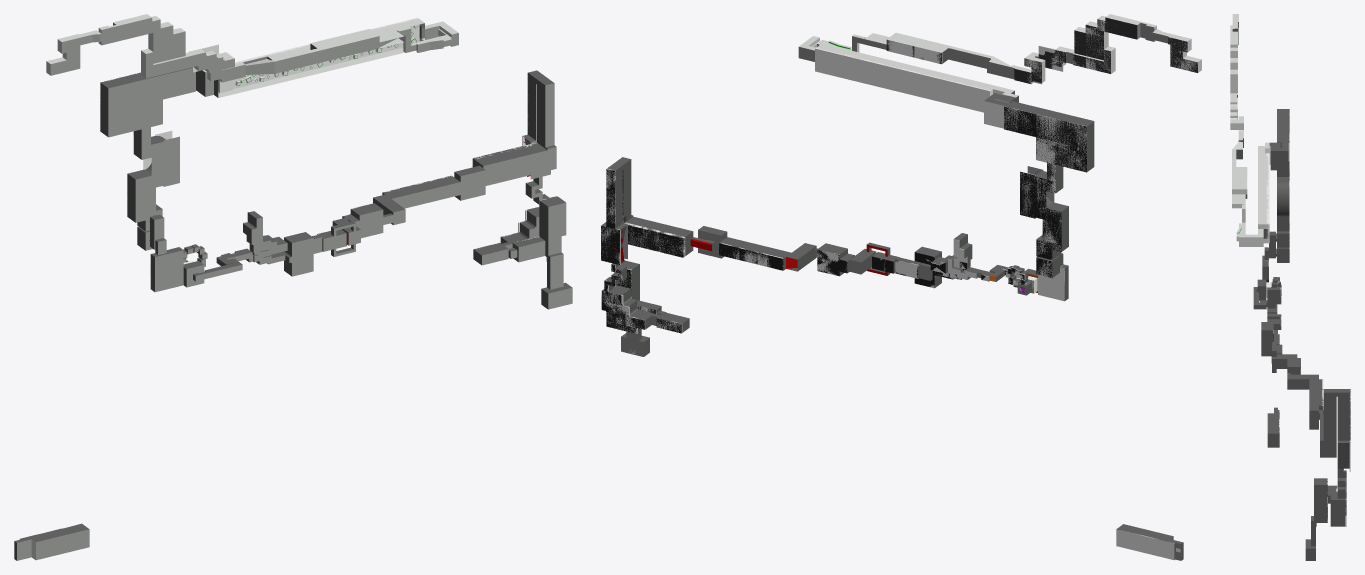
Rendered from bhop_kairos.obj.
The picture shows the model from 3 angles, left to right: view 1: azimuth 30°, elevation 25°; view 2: azimuth 150°, elevation 25°; view 3: azimuth 270°, elevation 25°; orthographic projection. The views are drawn at different scales.
Visible parts, largest first — view 1: VBSP_Object.model_0, VBSP_Object.model_142; view 2: VBSP_Object.model_0, VBSP_Object.model_142, VBSP_Object.model_138, VBSP_Object.model_141, VBSP_Object.model_77, VBSP_Object.model_139, VBSP_Object.model_87; view 3: VBSP_Object.model_0, VBSP_Object.model_142.
Part boxes in pixels (x1,y1,x2,y2): VBSP_Object.model_0: (14, 14, 572, 560); VBSP_Object.model_142: (233, 17, 419, 88); VBSP_Object.model_0: (601, 14, 1201, 560); VBSP_Object.model_142: (815, 47, 991, 112); VBSP_Object.model_138: (1004, 106, 1087, 148); VBSP_Object.model_141: (1020, 163, 1061, 259); VBSP_Object.model_77: (1116, 529, 1174, 559); VBSP_Object.model_139: (1036, 137, 1086, 171); VBSP_Object.model_87: (601, 291, 645, 333); VBSP_Object.model_0: (1230, 14, 1350, 560); VBSP_Object.model_142: (1266, 153, 1269, 243).
Size of the model in its own units: 29920 by 26640 by 6960.
